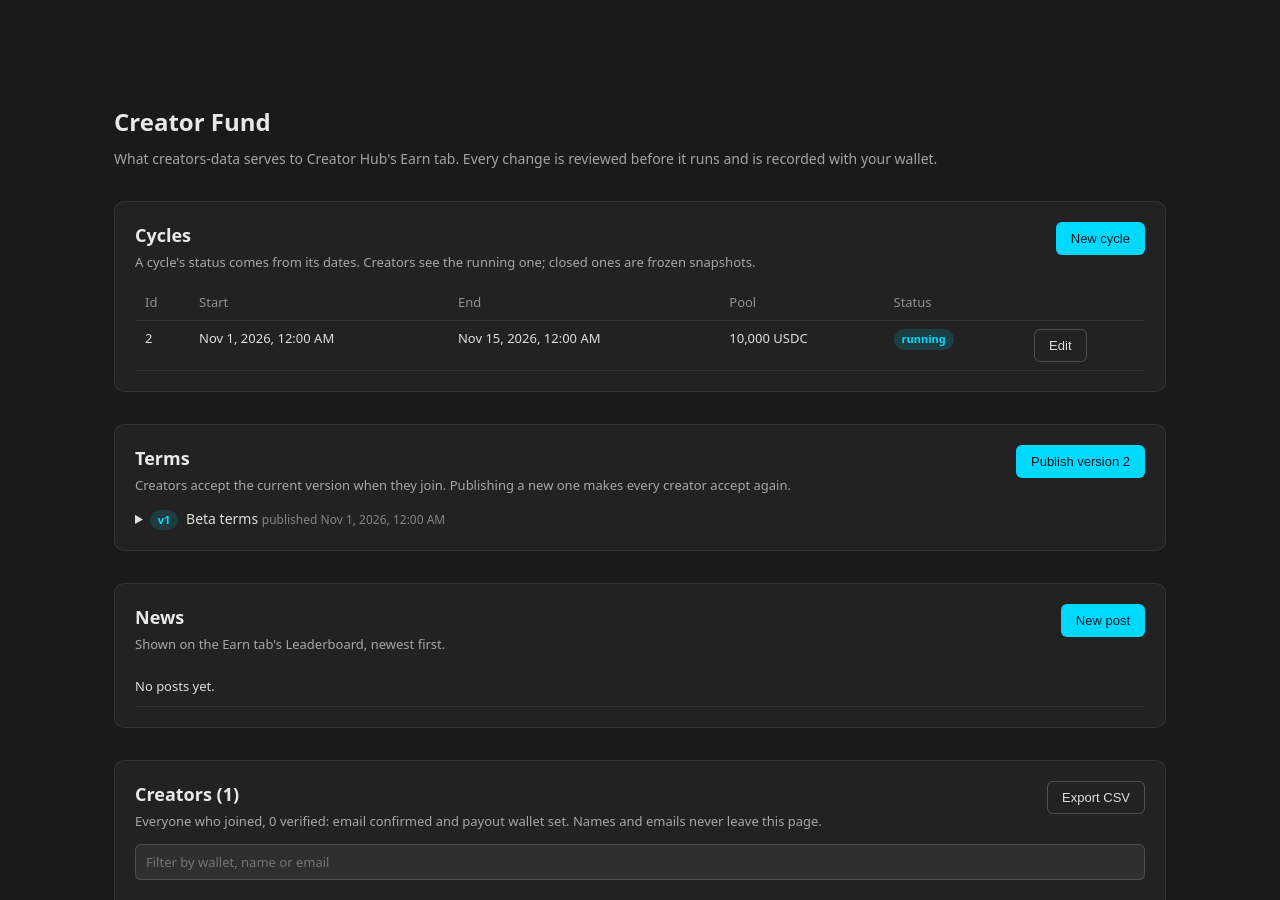
it: CreatorFundPage › refuses to review a cycle whose end is not after its start, and sends nothing
Click the button "New cycle" at (1100, 238), box x1=1056 y1=222 x2=1145 y2=255
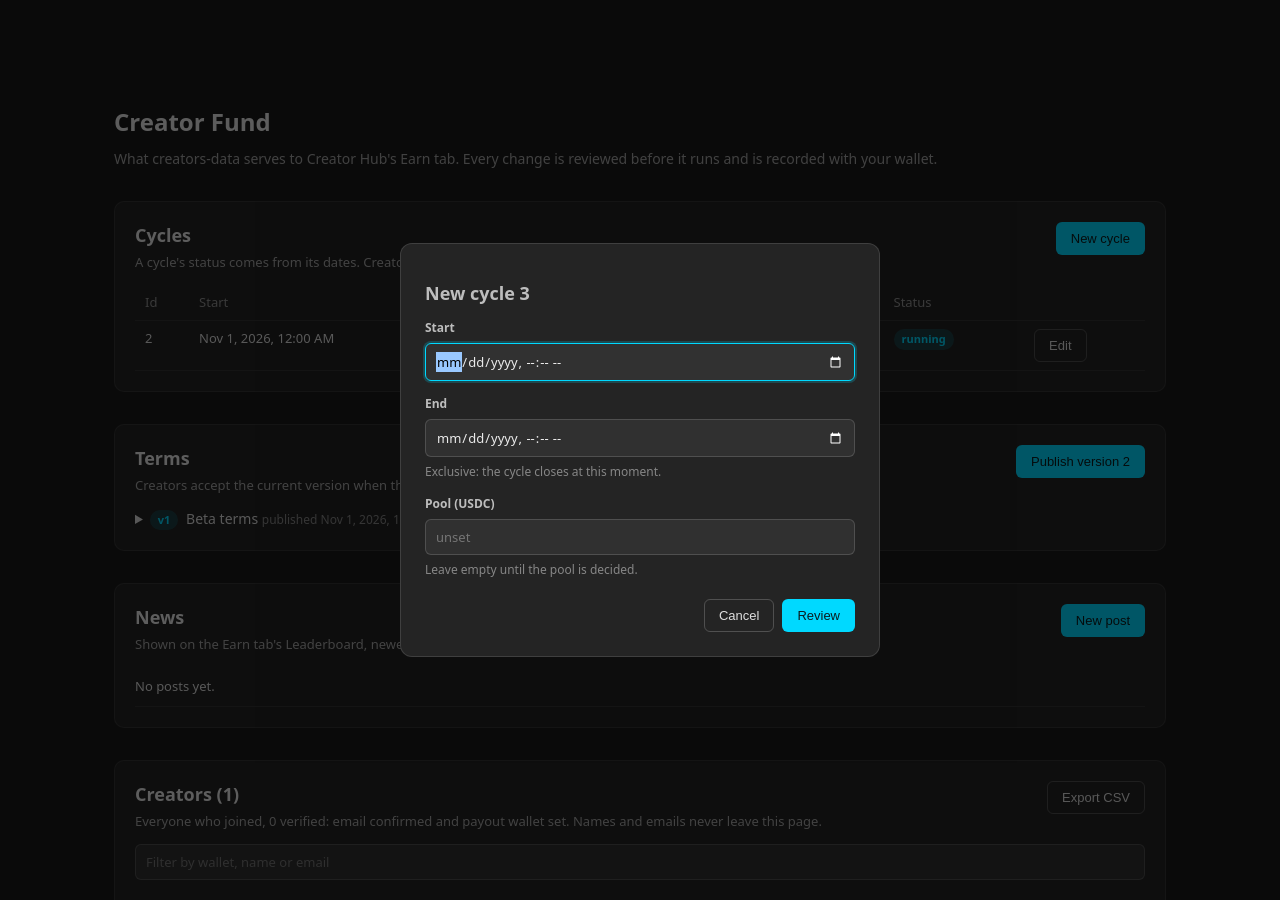
Type "2026-12-01T00:00" into the field named "Cycle start" at (640, 362), box x1=425 y1=343 x2=855 y2=381
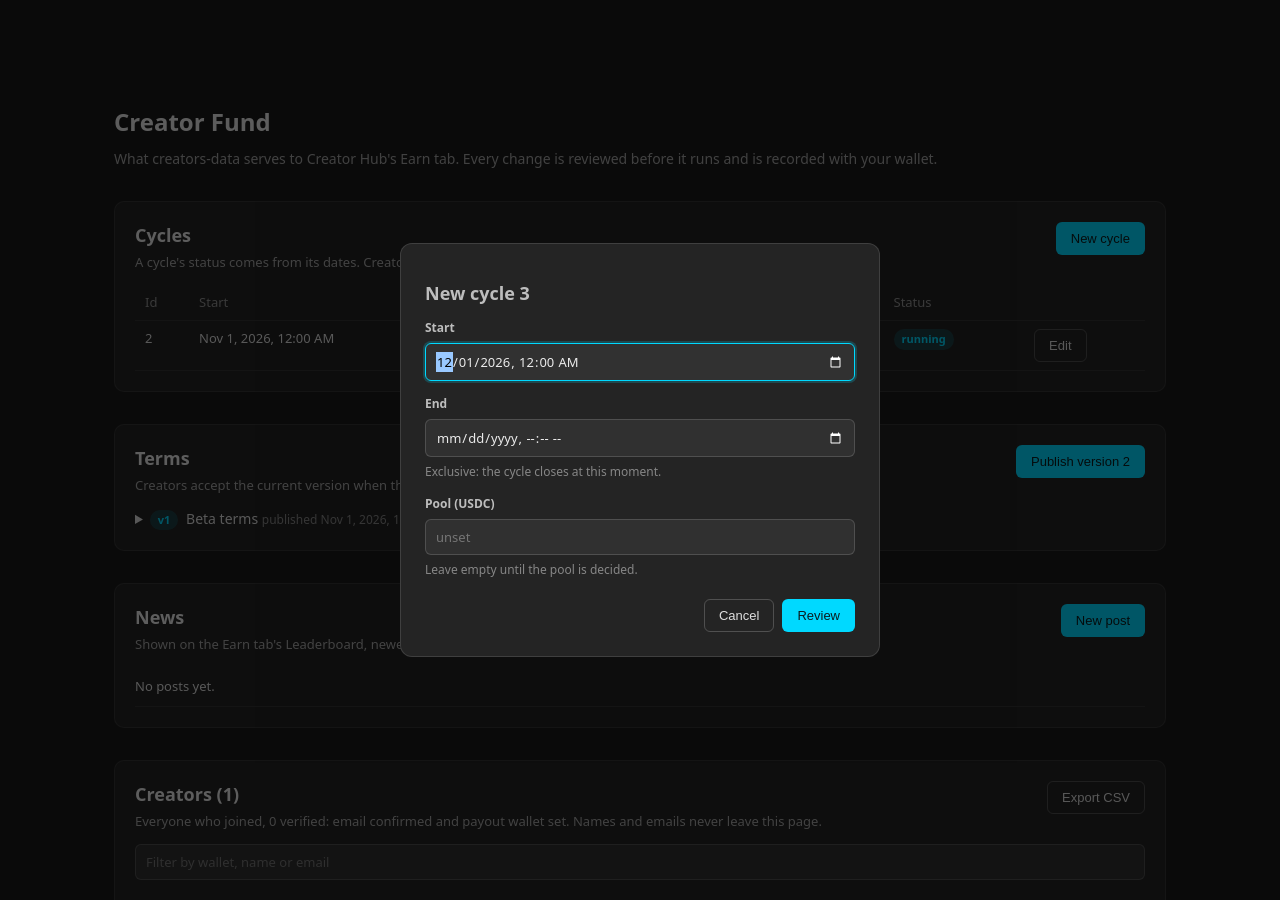
Type "2026-12-01T00:00" into the field named "Cycle end" at (640, 438), box x1=425 y1=419 x2=855 y2=457
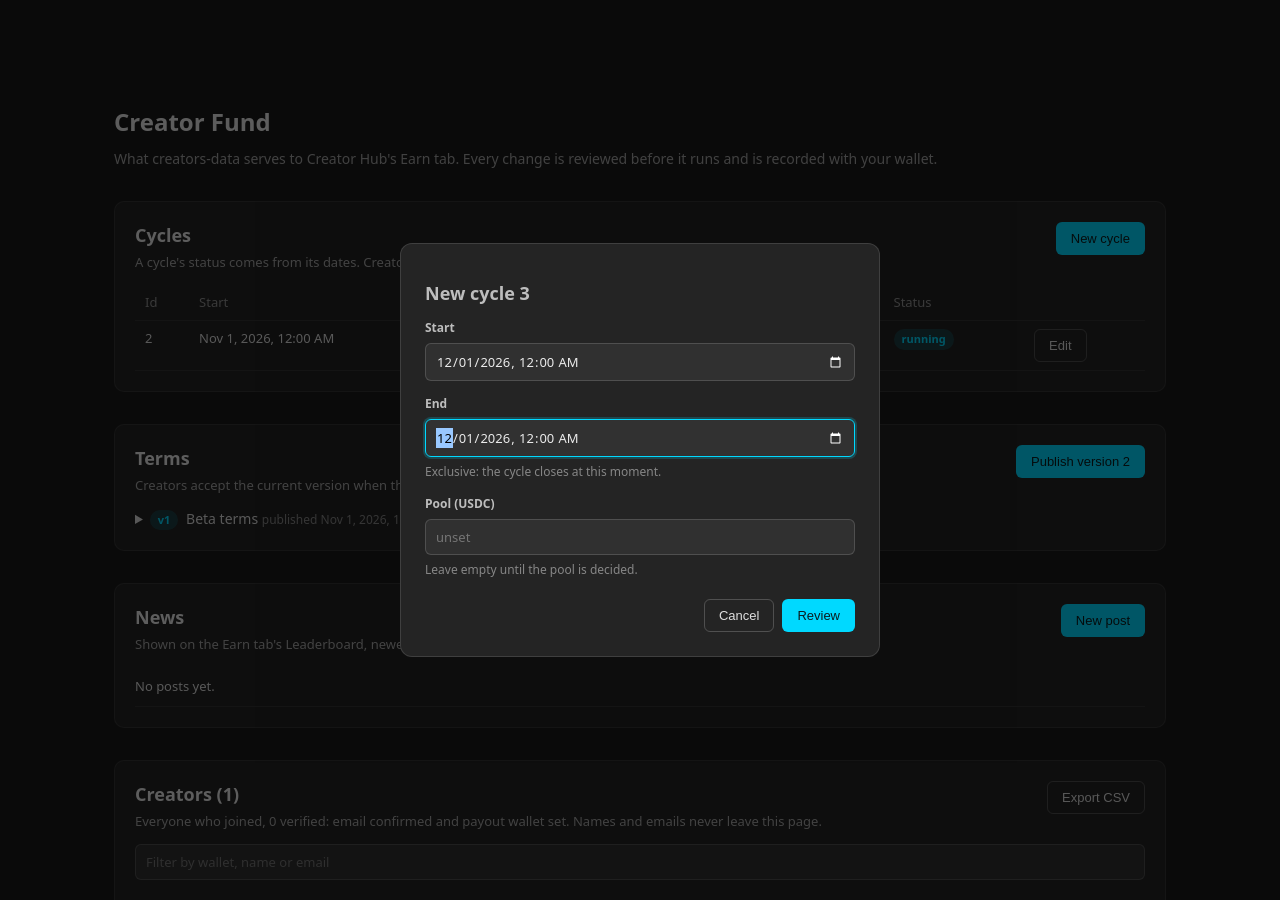
Click the button "Review" at (819, 616), box x1=782 y1=599 x2=855 y2=632
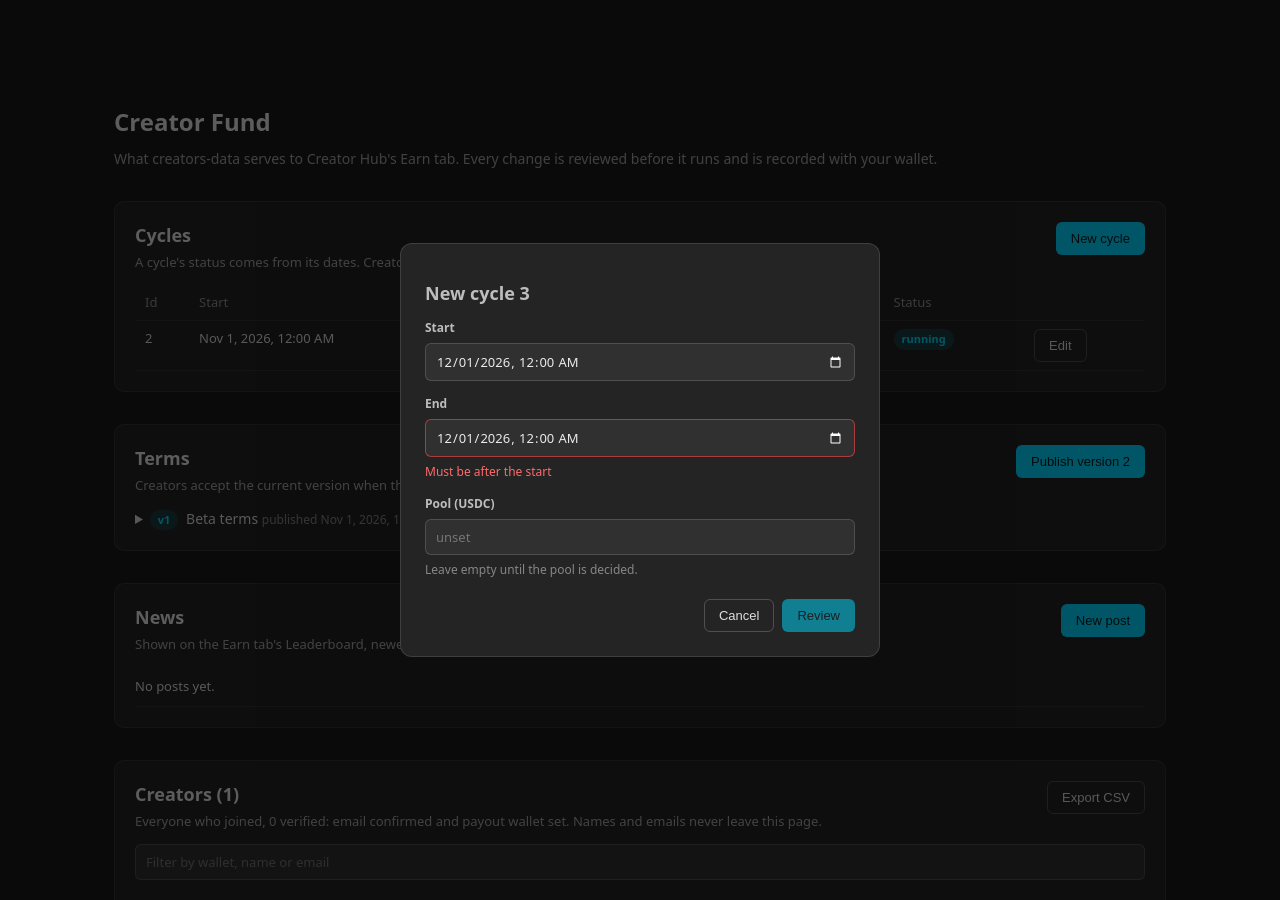
Check: the text "Must be after the start" is shown, box x1=425 y1=463 x2=552 y2=480
